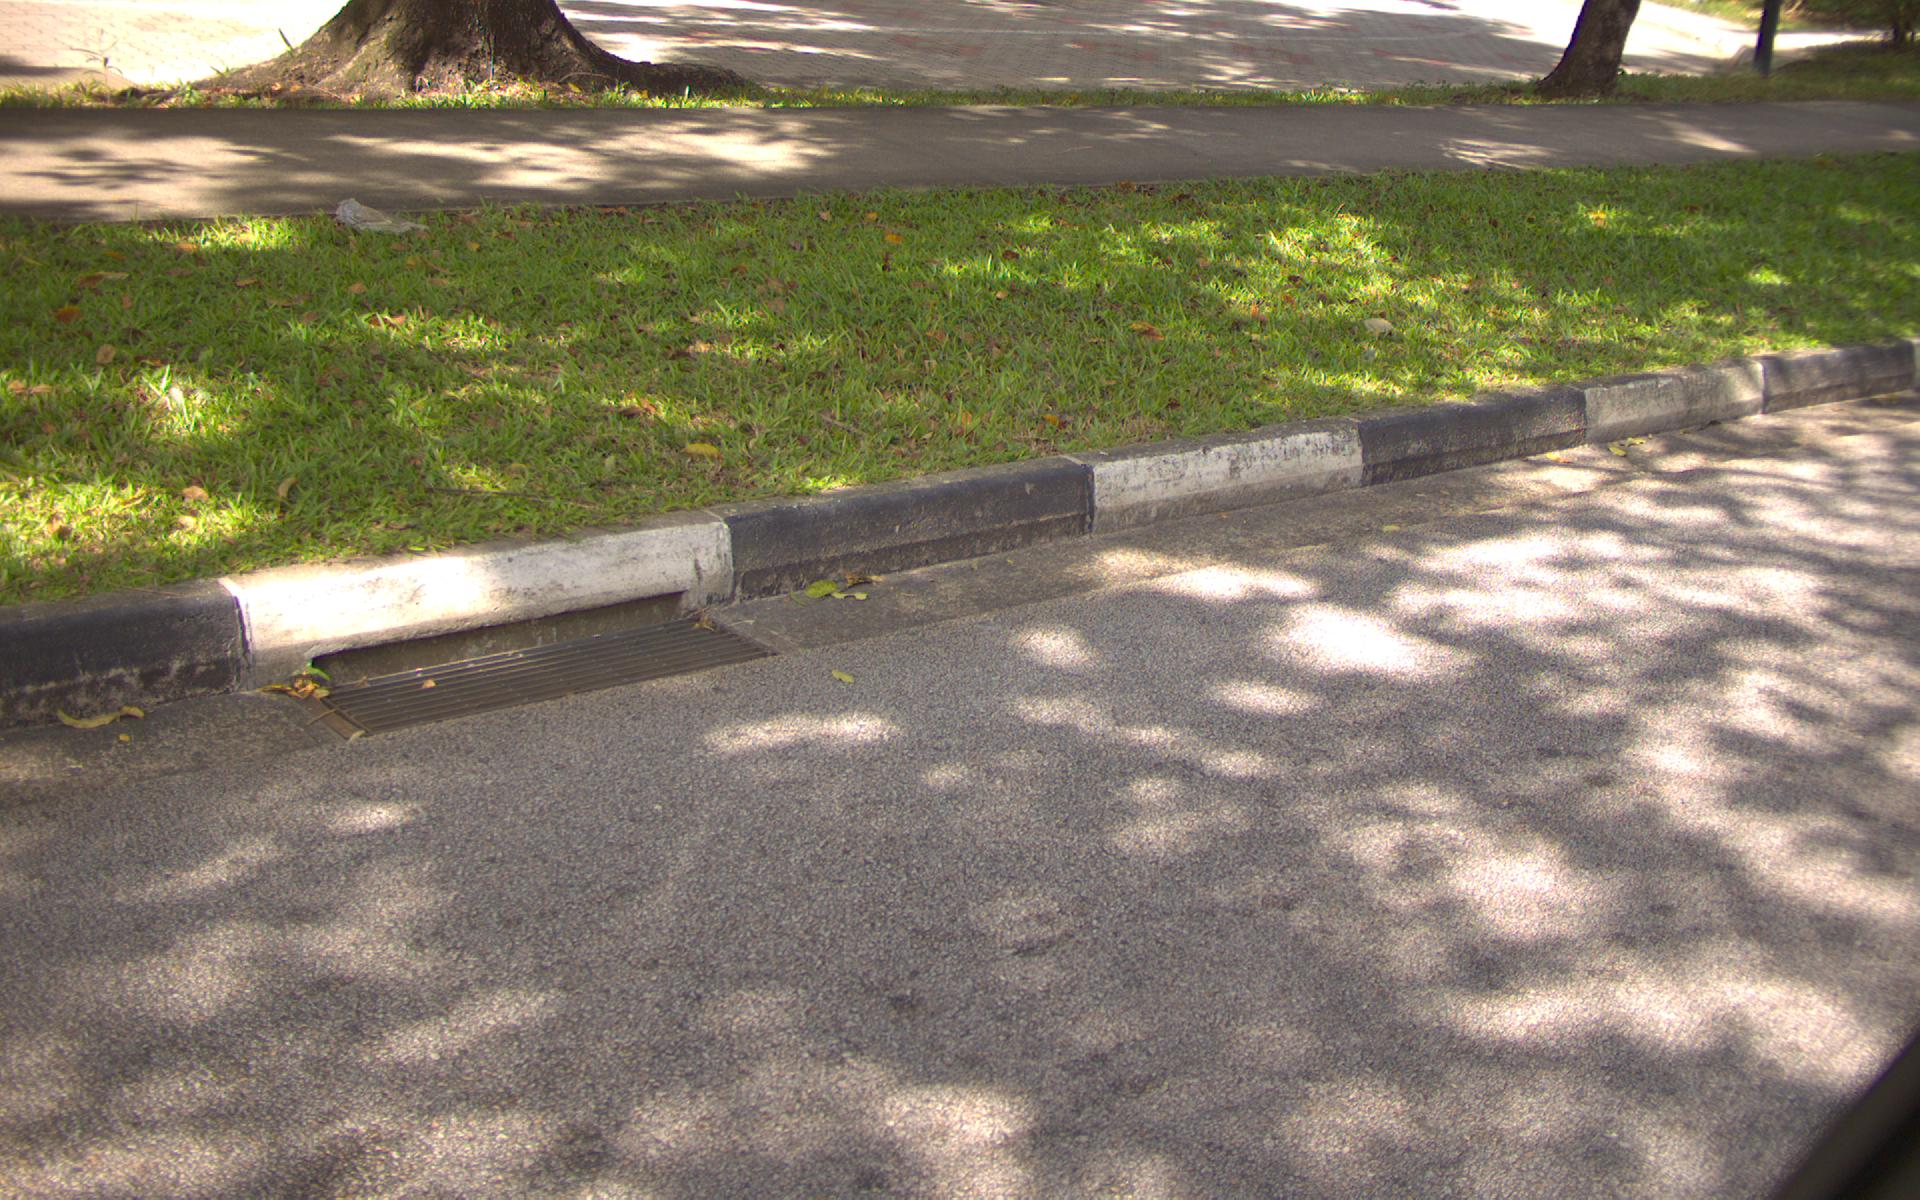curb_dic_low: (282, 594, 817, 749)
road_turf_low: (1, 223, 1373, 400)
